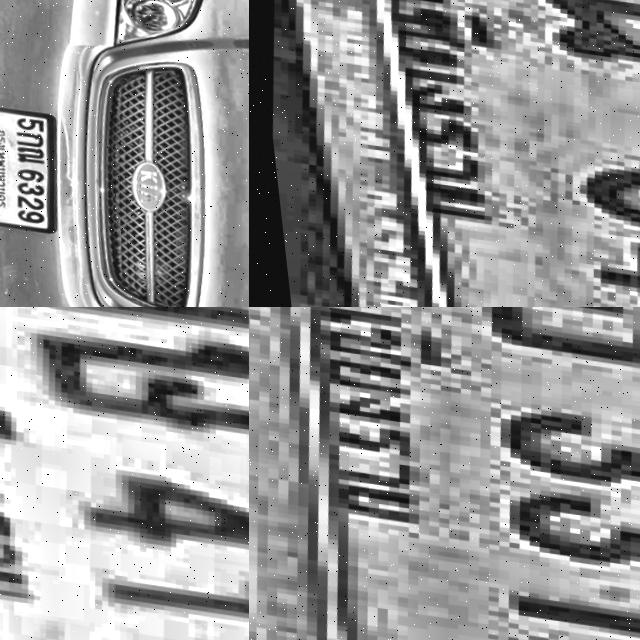license-plate: (249, 307, 640, 640), (249, 0, 640, 307), (0, 307, 249, 640), (0, 101, 63, 236)
